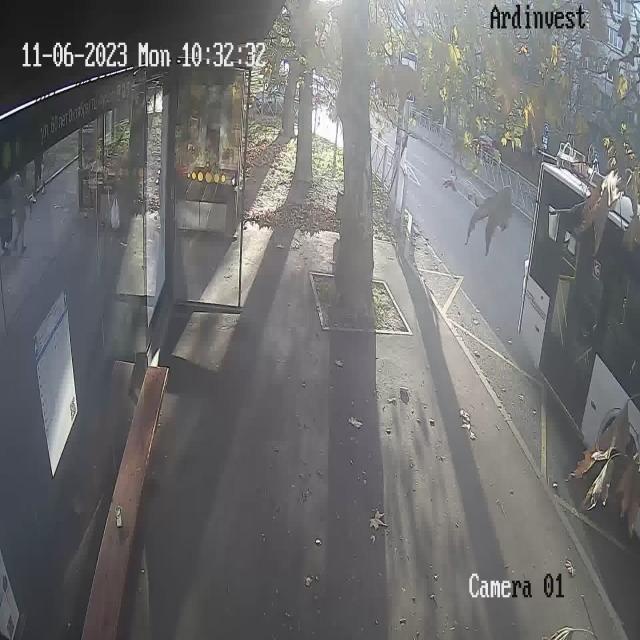bus: (516, 120, 640, 502)
